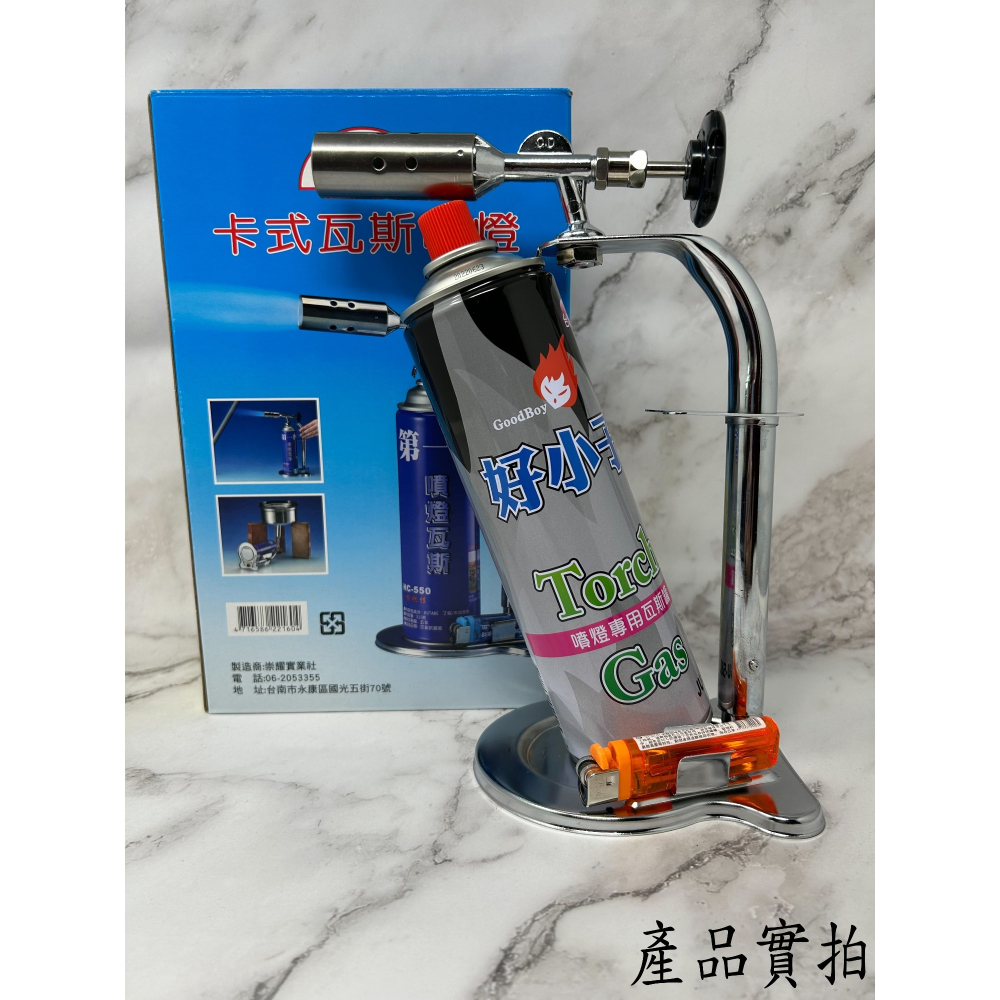gastorch: (306, 112, 836, 862)
